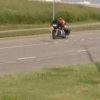Motorcycle: (45, 12, 75, 44)
